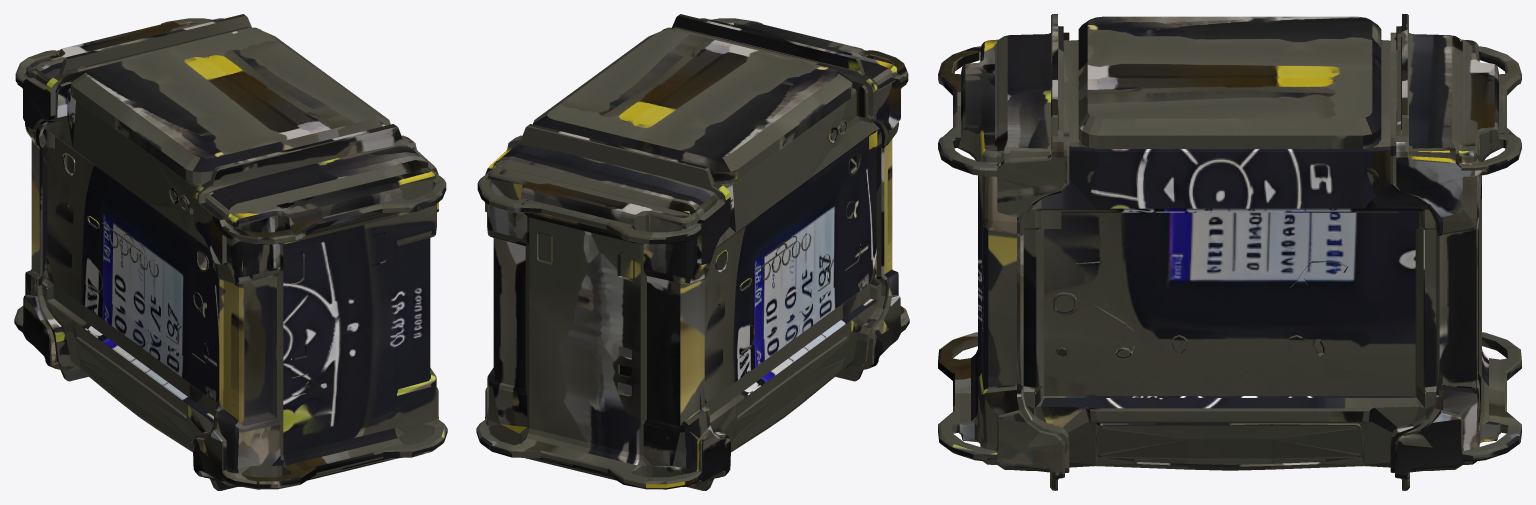
The model's file is bertester.fbx.
3 views of the same model, side by side, from view 1: azimuth 30°, elevation 25°; view 2: azimuth 150°, elevation 25°; view 3: azimuth 270°, elevation 25° (orthographic). The views are drawn at different scales.
Visible parts, largest first — view 1: tripo_node_6ba45529; view 2: tripo_node_6ba45529; view 3: tripo_node_6ba45529.
Boxes of the visible parts, x1,y1,x2,y2 form: tripo_node_6ba45529: (14,14,447,490); tripo_node_6ba45529: (476,14,909,490); tripo_node_6ba45529: (938,14,1521,490).
Size of the model in its own units: 0.5068 by 0.7123 by 1.
